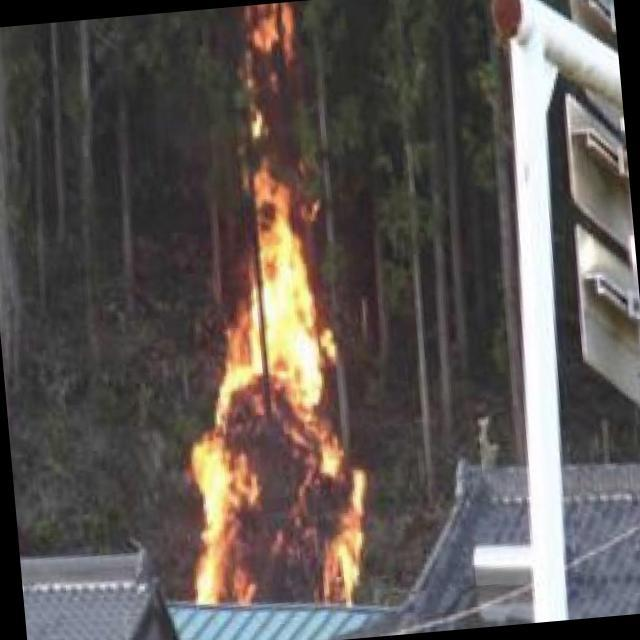Fire: (165, 177, 383, 617), (231, 2, 312, 93)
